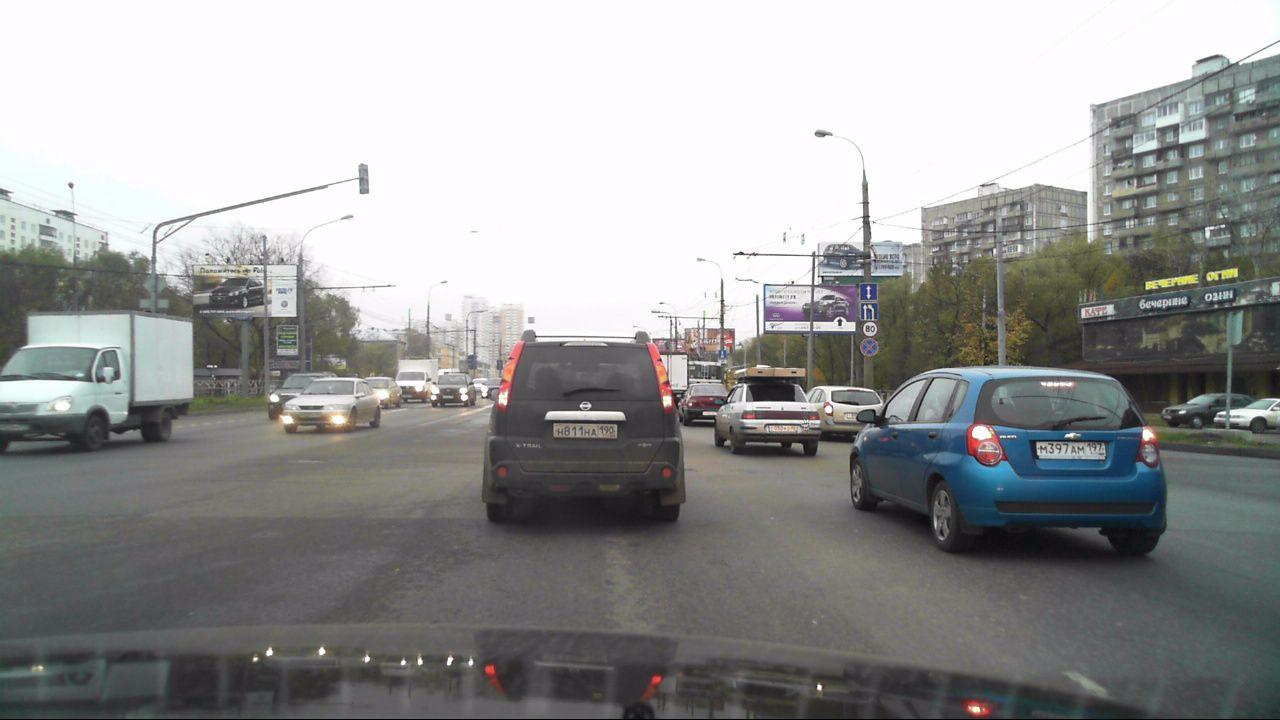3_24: (862, 320, 880, 336)
3_27: (859, 337, 880, 358)
5_14_1: (719, 350, 726, 359)
5_15_5: (860, 302, 879, 320)
5_8: (860, 283, 877, 300)
8_5_2: (718, 360, 727, 363)
